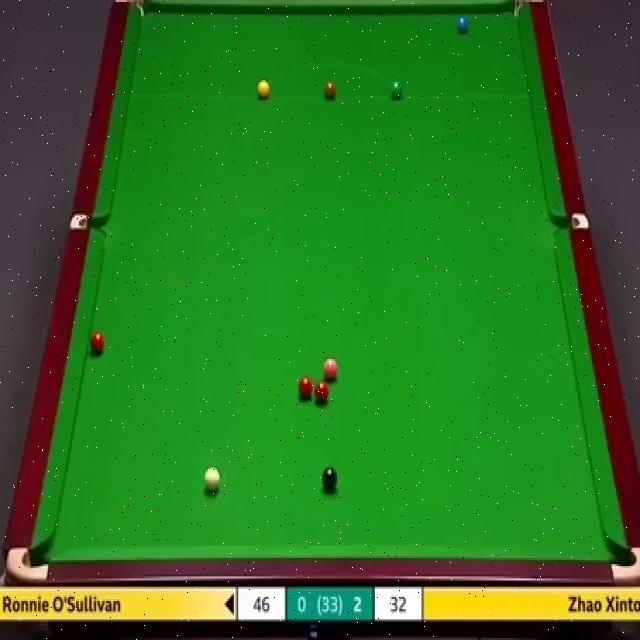black-ball: (320, 467, 338, 488)
blue-ball: (455, 15, 470, 36)
brown-ball: (323, 82, 337, 99)
green-ball: (389, 78, 404, 102)
pink-ball: (322, 358, 339, 382)
red-ball: (316, 380, 330, 408), (89, 332, 106, 353), (298, 376, 313, 398)
white-ball: (202, 466, 220, 493)
yellow-ball: (256, 79, 271, 100)
